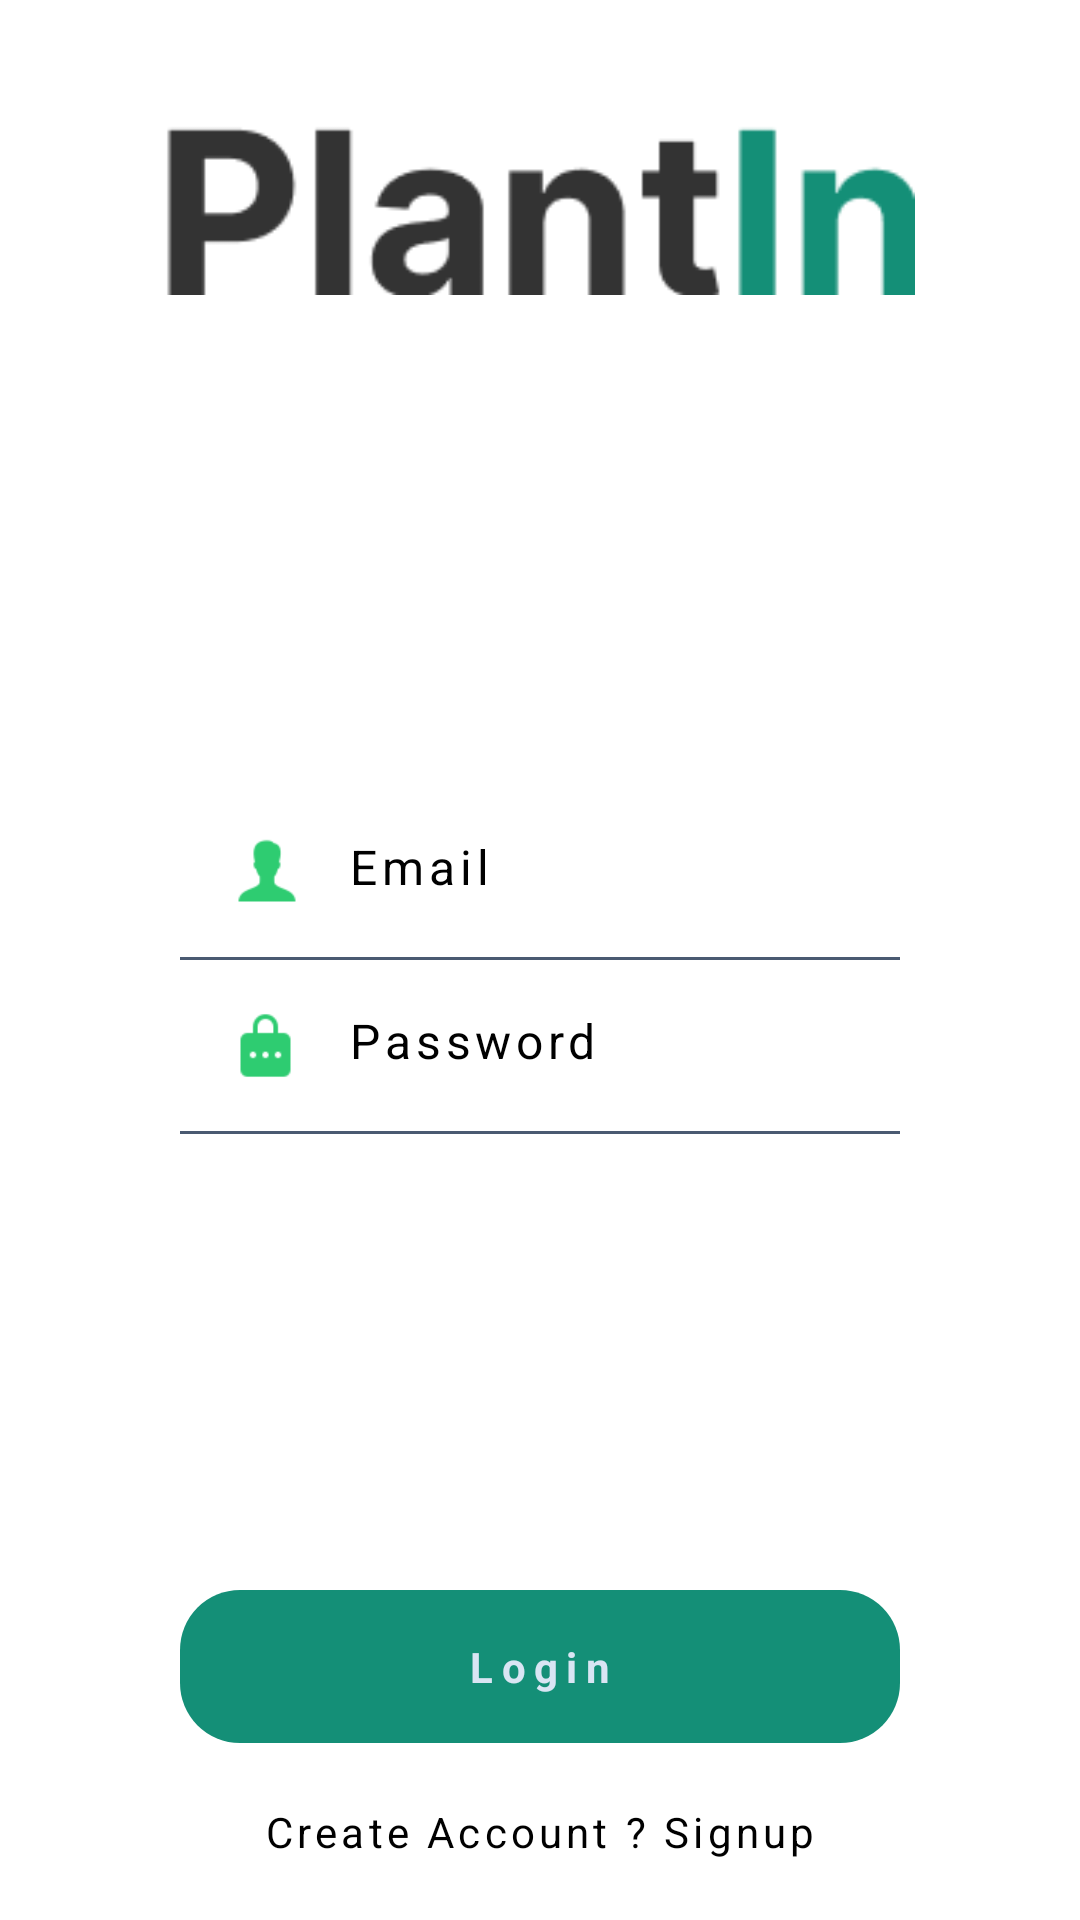

Named icons in this screenshot (1080 × 1920) and their bounding boxes, Rect(x1, y1, x2, y2):
usrusr: Rect(238, 840, 296, 902)
